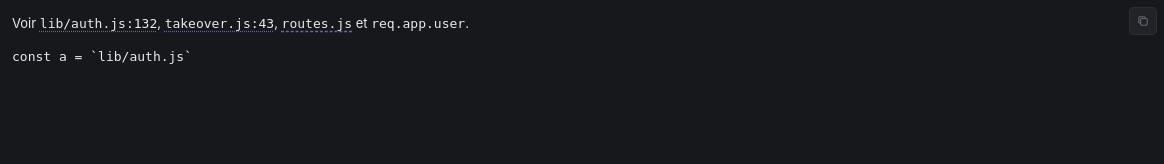
Test: une citation ambiguë propose ses candidats dans un menu
Click the button "routes.js". click: (317, 24)
box: [282,13,352,34]
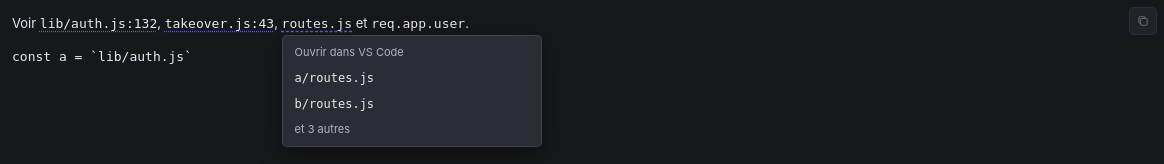
Expected: the menu items read "a/routes.js", "b/routes.js", in this order
Expected: the text "et 3 autres" is shown, [295,122,350,136]
Click the menu item "b/routes.js". click: (412, 104)
box: [287,91,537,117]
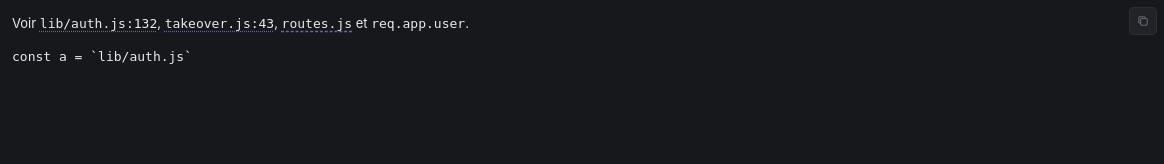
Expected: the menu is gone
